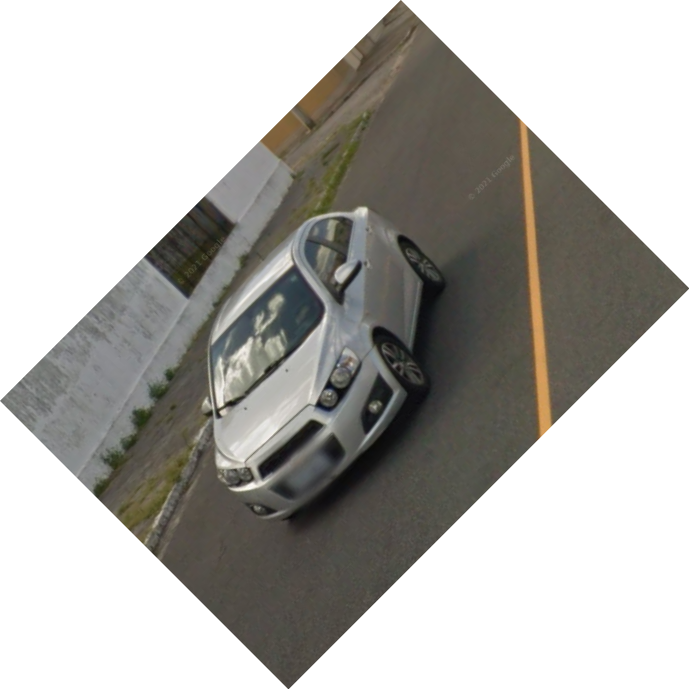car: (190, 203, 455, 530)
